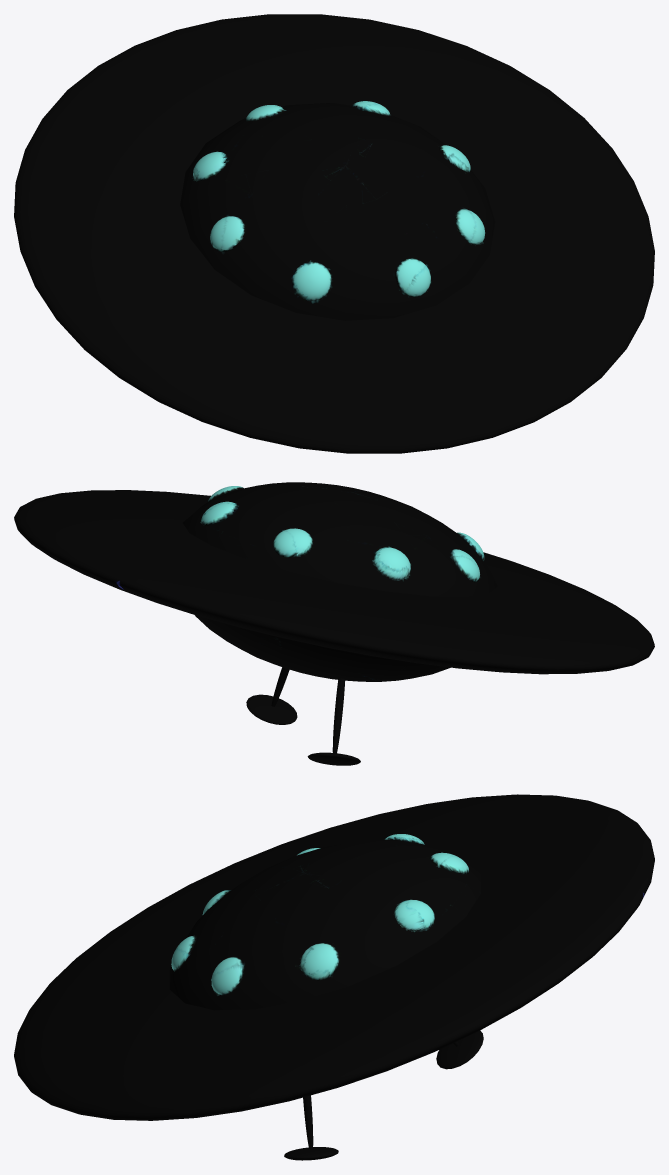
File: ufo.gltf
3 renders of one model, top to bottom at view 1: azimuth 30°, elevation 25°; view 2: azimuth 150°, elevation 25°; view 3: azimuth 270°, elevation 25°, orthographic. The views are drawn at different scales.
Parts seen in each view (by area): view 1: node_id35, node_id37; view 2: node_id35, node_id37; view 3: node_id35, node_id37.
Part boxes in pixels (<box>): node_id35: <box>14,14,654,453</box>; node_id37: <box>193,101,485,300</box>; node_id35: <box>14,482,654,765</box>; node_id37: <box>201,486,484,582</box>; node_id35: <box>14,794,654,1160</box>; node_id37: <box>171,834,469,995</box>.
Size of the model in its own units: 0.00357 by 0.00157 by 0.0034.
Materials: 2 (2 with a texture image).
